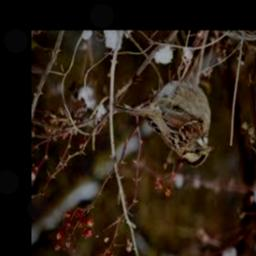Sparrow: (113, 67, 215, 166)
